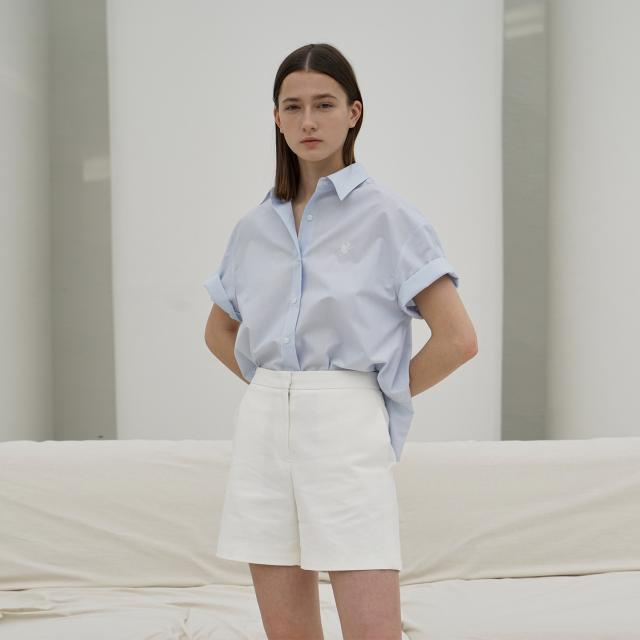dress: (222, 177, 453, 412)
